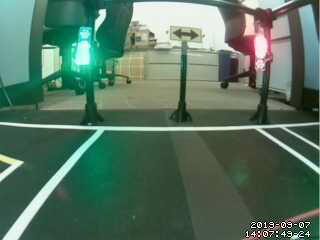Left_Right_sign: (170, 26, 205, 44)
Traffic_light_green: (79, 28, 93, 68)
Traffic_light_red: (255, 36, 267, 69)
